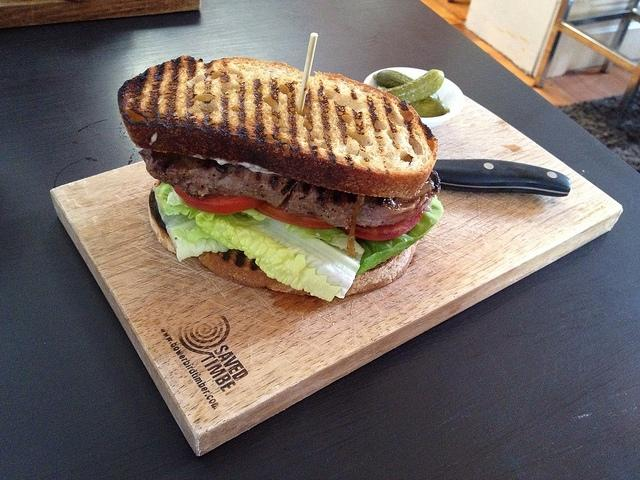lettuce: (195, 208, 365, 302), (355, 196, 444, 276), (156, 200, 230, 262)
tomato: (174, 186, 266, 214), (254, 202, 337, 230), (355, 210, 424, 240)
